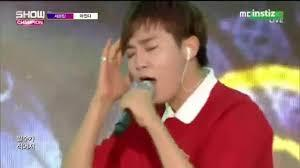earphone: (182, 46, 192, 62)
